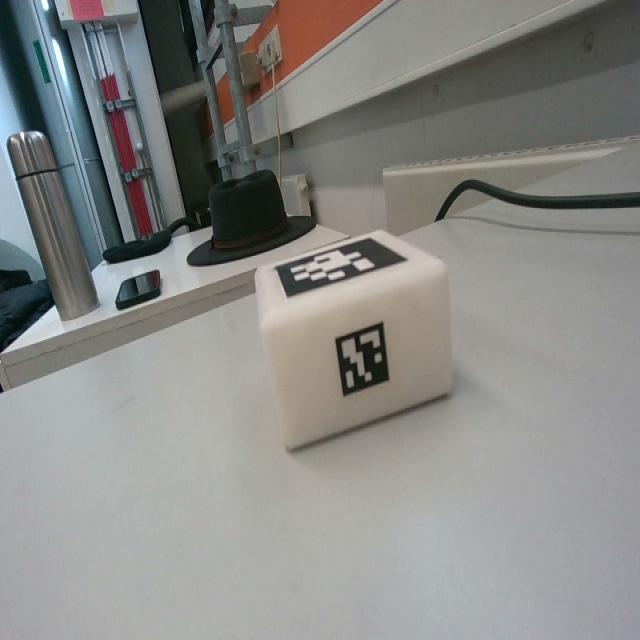Cube: (256, 224, 453, 455)
